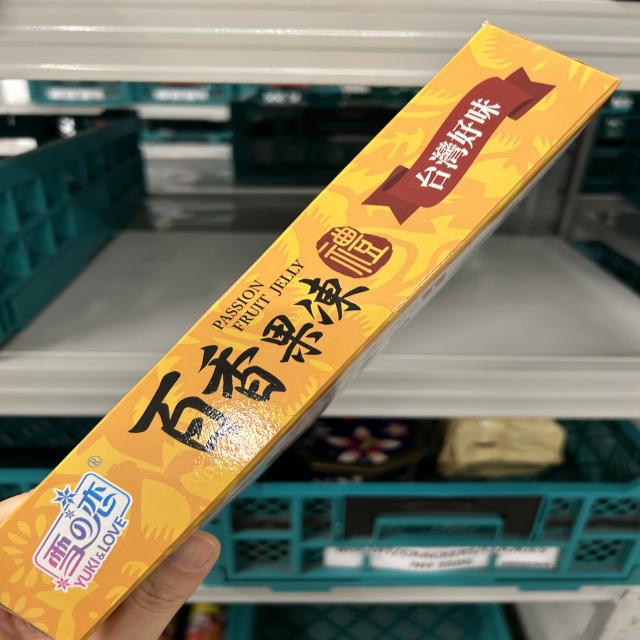object_name: (28, 23, 625, 620)
